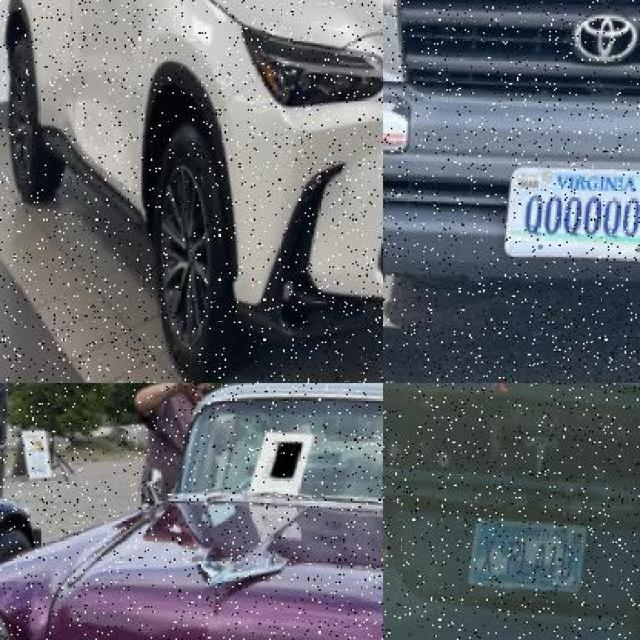LicensePlate: (502, 170, 639, 263), (463, 520, 586, 600)
